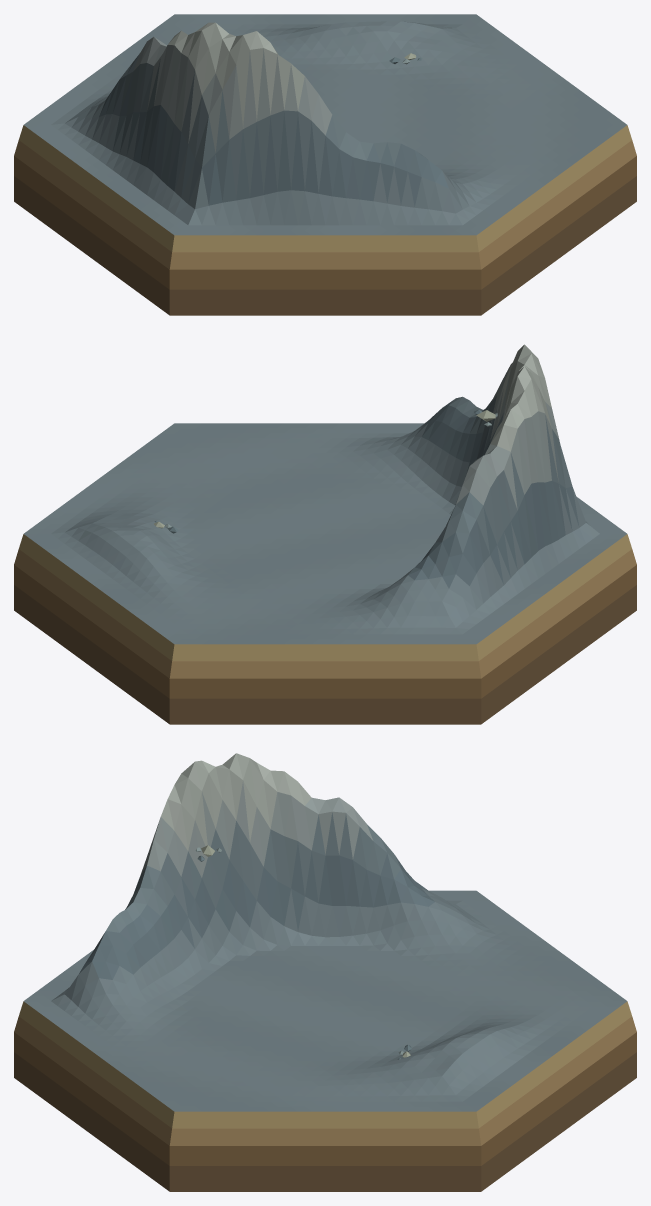
Rendered from catan_terrain_ore_03.glb.
The picture shows the model from 3 angles, top to bottom: view 1: azimuth 30°, elevation 25°; view 2: azimuth 150°, elevation 25°; view 3: azimuth 270°, elevation 25°; orthographic projection.
Visible parts, largest first — view 1: catan_terrain_ore_03_ground; view 2: catan_terrain_ore_03_ground; view 3: catan_terrain_ore_03_ground.
Part boxes in pixels (box(x1,y1,x2,y2)): catan_terrain_ore_03_ground: box(14, 14, 636, 315); catan_terrain_ore_03_ground: box(14, 344, 636, 724); catan_terrain_ore_03_ground: box(14, 753, 636, 1191).
Bounding box in the file's own units: 1.71 × 0.8758 × 1.97.
